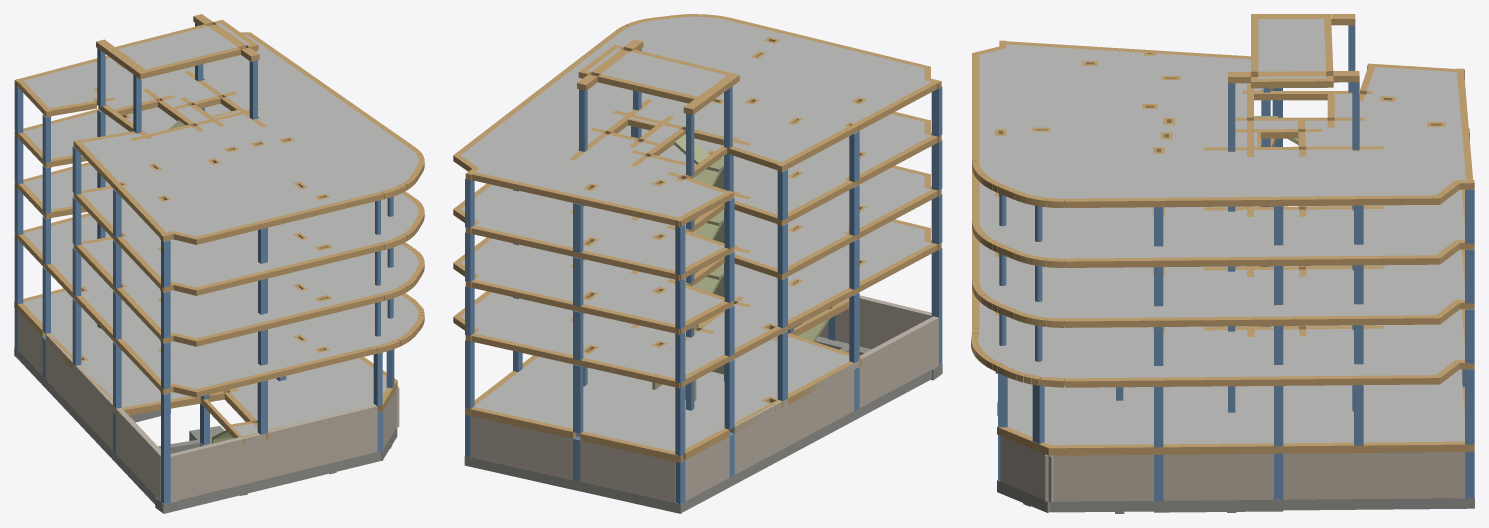
The model's file is ESC_ReticularPorex.glb.
3 views of the same model, side by side, from view 1: azimuth 30°, elevation 25°; view 2: azimuth 150°, elevation 25°; view 3: azimuth 270°, elevation 25° (orthographic). The views are drawn at different scales.
Parts seen in each view (by area): view 1: IfcSlab, IfcBeam, IfcWallStandardCase, IfcColumn, IfcFooting; view 2: IfcSlab, IfcBeam, IfcWallStandardCase, IfcColumn, IfcFooting, IfcStair; view 3: IfcSlab, IfcBeam, IfcWallStandardCase, IfcColumn, IfcFooting.
Boxes of the visible parts, x1=… form: IfcSlab: x1=23, y1=23, x2=418, y2=436; IfcBeam: x1=14, y1=14, x2=424, y2=445; IfcWallStandardCase: x1=17, y1=311, x2=399, y2=501; IfcColumn: x1=14, y1=23, x2=394, y2=503; IfcFooting: x1=14, y1=346, x2=397, y2=513; IfcSlab: x1=460, y1=16, x2=931, y2=451; IfcBeam: x1=453, y1=14, x2=941, y2=462; IfcWallStandardCase: x1=470, y1=295, x2=938, y2=502; IfcColumn: x1=465, y1=49, x2=942, y2=503; IfcFooting: x1=464, y1=336, x2=942, y2=513; IfcStair: x1=652, y1=134, x2=829, y2=401; IfcSlab: x1=978, y1=19, x2=1465, y2=445; IfcBeam: x1=971, y1=14, x2=1474, y2=455; IfcWallStandardCase: x1=1000, y1=436, x2=1465, y2=502; IfcColumn: x1=998, y1=25, x2=1474, y2=500; IfcFooting: x1=995, y1=372, x2=1474, y2=513.
Bounding box in the file's own units: 16.19 × 19.2 × 21.34.
